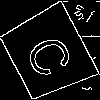C: (23, 28, 84, 81)
